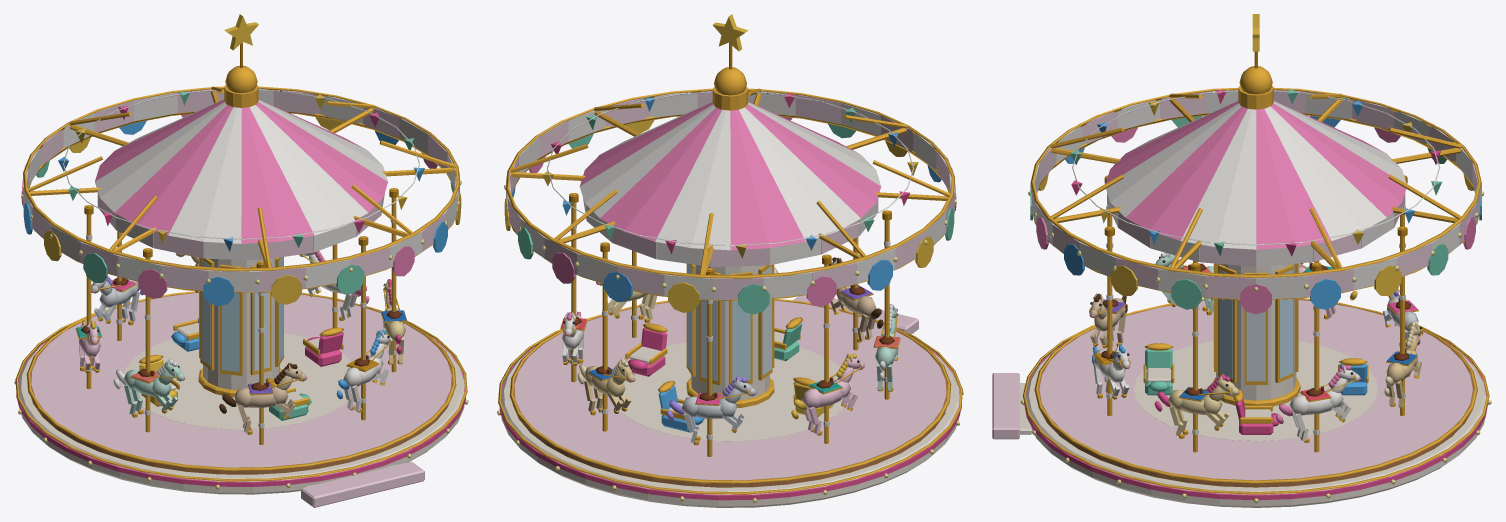
Rendered from park-carousel.glb.
3 renders of one model, left to right at view 1: azimuth 30°, elevation 25°; view 2: azimuth 150°, elevation 25°; view 3: azimuth 270°, elevation 25°, orthographic. The views are drawn at different scales.
Visible parts, largest first — view 1: pk_carousel_spin_mesh, pk_carousel_mesh, pk_carousel_horse5_mesh, pk_carousel_horse4_mesh, pk_carousel_horse6_mesh, pk_carousel_horse2_mesh, pk_carousel_chariot0_mesh, pk_carousel_horse7_mesh, pk_carousel_horse3_mesh, pk_carousel_horse0_mesh, pk_carousel_chariot3_mesh, pk_carousel_chariot1_mesh (+1 smaller); view 2: pk_carousel_spin_mesh, pk_carousel_mesh, pk_carousel_horse2_mesh, pk_carousel_horse3_mesh, pk_carousel_horse1_mesh, pk_carousel_horse5_mesh, pk_carousel_chariot0_mesh, pk_carousel_horse4_mesh, pk_carousel_horse0_mesh, pk_carousel_chariot1_mesh, pk_carousel_chariot3_mesh, pk_carousel_horse7_mesh; view 3: pk_carousel_spin_mesh, pk_carousel_mesh, pk_carousel_horse7_mesh, pk_carousel_horse0_mesh, pk_carousel_horse1_mesh, pk_carousel_chariot3_mesh, pk_carousel_horse6_mesh, pk_carousel_horse5_mesh, pk_carousel_chariot0_mesh, pk_carousel_horse2_mesh, pk_carousel_chariot1_mesh, pk_carousel_horse4_mesh.
Boxes of the visible parts, x1=… form: pk_carousel_spin_mesh: x1=21, y1=14, x2=461, y2=474; pk_carousel_mesh: x1=14, y1=309, x2=468, y2=507; pk_carousel_horse5_mesh: x1=219, y1=362, x2=307, y2=434; pk_carousel_horse4_mesh: x1=113, y1=358, x2=185, y2=417; pk_carousel_horse6_mesh: x1=336, y1=330, x2=392, y2=412; pk_carousel_horse2_mesh: x1=91, y1=276, x2=143, y2=325; pk_carousel_chariot0_mesh: x1=303, y1=327, x2=343, y2=366; pk_carousel_horse7_mesh: x1=380, y1=279, x2=407, y2=364; pk_carousel_horse3_mesh: x1=75, y1=320, x2=102, y2=372; pk_carousel_horse0_mesh: x1=299, y1=251, x2=369, y2=320; pk_carousel_chariot3_mesh: x1=265, y1=378, x2=311, y2=420; pk_carousel_chariot1_mesh: x1=171, y1=318, x2=198, y2=351; pk_carousel_spin_mesh: x1=504, y1=14, x2=956, y2=487; pk_carousel_mesh: x1=497, y1=295, x2=963, y2=507; pk_carousel_horse2_mesh: x1=666, y1=375, x2=756, y2=445; pk_carousel_horse3_mesh: x1=791, y1=353, x2=864, y2=435; pk_carousel_horse1_mesh: x1=577, y1=358, x2=635, y2=415; pk_carousel_horse5_mesh: x1=829, y1=257, x2=883, y2=342; pk_carousel_chariot0_mesh: x1=625, y1=323, x2=667, y2=376; pk_carousel_horse4_mesh: x1=873, y1=304, x2=900, y2=391; pk_carousel_horse0_mesh: x1=560, y1=311, x2=587, y2=365; pk_carousel_chariot1_mesh: x1=658, y1=380, x2=704, y2=432; pk_carousel_chariot3_mesh: x1=774, y1=317, x2=802, y2=361; pk_carousel_horse7_mesh: x1=596, y1=281, x2=657, y2=322; pk_carousel_spin_mesh: x1=1028, y1=14, x2=1484, y2=487; pk_carousel_mesh: x1=992, y1=313, x2=1491, y2=507; pk_carousel_horse7_mesh: x1=1154, y1=373, x2=1239, y2=438; pk_carousel_horse0_mesh: x1=1276, y1=364, x2=1360, y2=442; pk_carousel_horse1_mesh: x1=1384, y1=321, x2=1423, y2=408; pk_carousel_chariot3_mesh: x1=1143, y1=343, x2=1174, y2=395; pk_carousel_horse6_mesh: x1=1092, y1=344, x2=1130, y2=399; pk_carousel_horse5_mesh: x1=1089, y1=293, x2=1127, y2=348; pk_carousel_chariot0_mesh: x1=1233, y1=389, x2=1278, y2=434; pk_carousel_horse2_mesh: x1=1383, y1=288, x2=1420, y2=348; pk_carousel_chariot1_mesh: x1=1338, y1=358, x2=1368, y2=395; pk_carousel_horse4_mesh: x1=1155, y1=252, x2=1213, y2=315.
Bounding box in the file's own units: 8.48 × 7.9 × 8.99.
